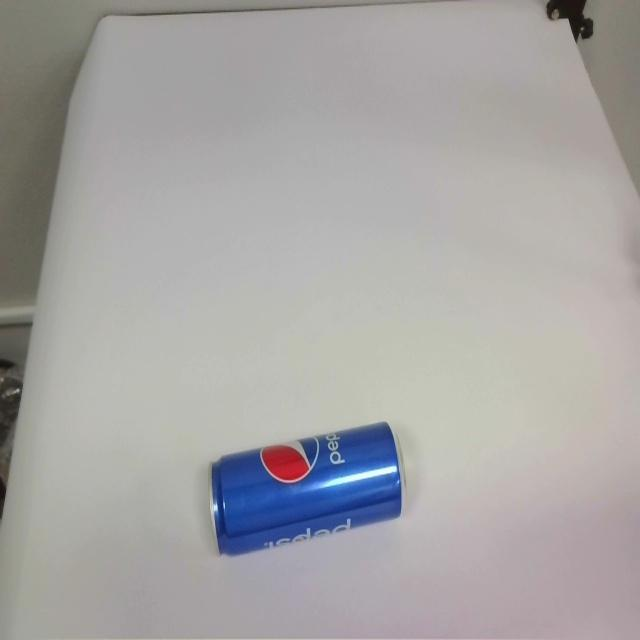debris: (210, 420, 403, 557)
